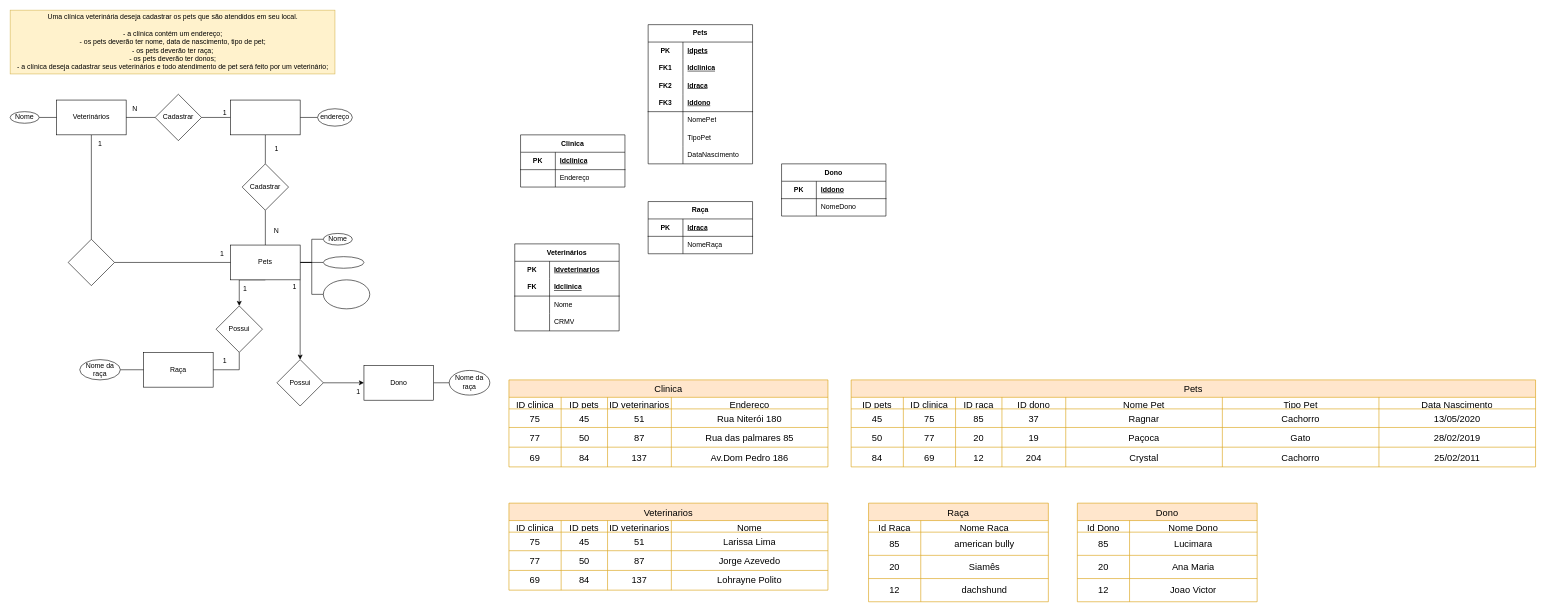
Some shapes in this 1546 by 612 pixel diagram are drawn without their labels. Each missing label, with the box of its shape:
Atendimento: (68, 239, 115, 286)
Clínica: (230, 99, 300, 135)
Data de nascimento: (323, 279, 370, 309)
Tipo do pet: (323, 256, 364, 268)
